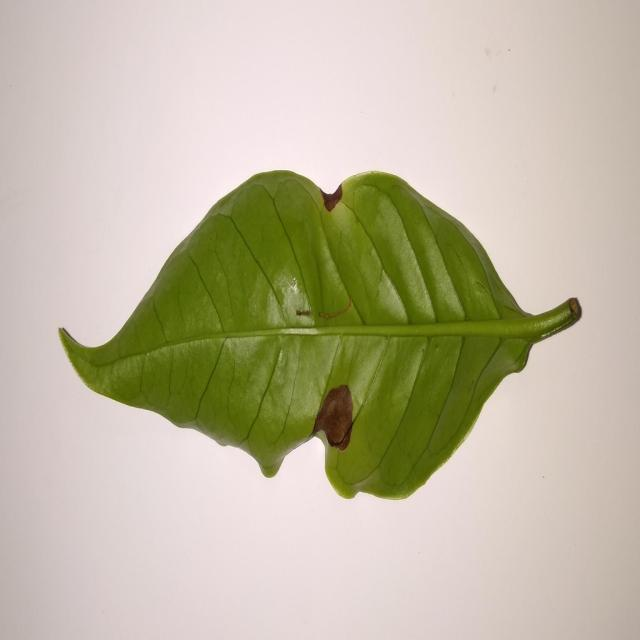Enfermedad-Antracnosis: (56, 170, 583, 504)
